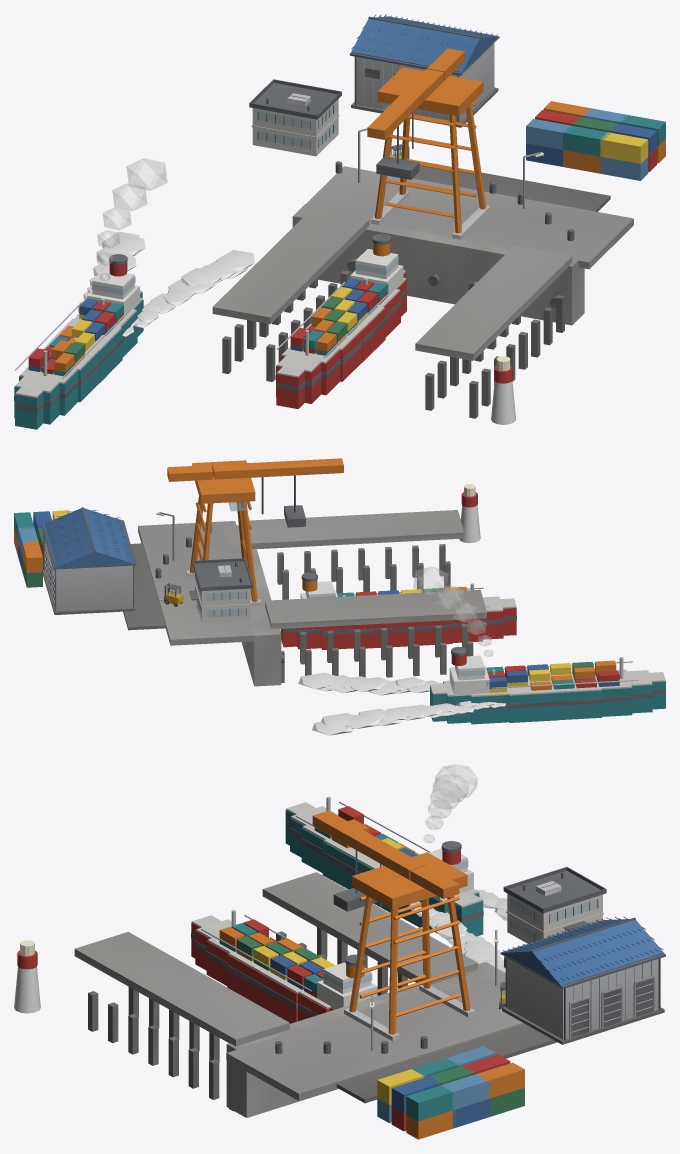
The model's file is Port_P2.fbx.
3 renders of one model, top to bottom at view 1: azimuth 30°, elevation 25°; view 2: azimuth 150°, elevation 25°; view 3: azimuth 270°, elevation 25°, orthographic. The views are drawn at different scales.
Parts seen in each view (by area): view 1: Port.Apron, Port.Pier1, Port.Ship0, Port.ShipOut, Port.Crane0, Port.Pier0, Port.QuayWall, Port.Shed, Port.Containers, Port.Control, Port.Wake, Port.ShipSmoke (+1 smaller); view 2: Port.ShipOut, Port.Pier0, Port.Apron, Port.Shed, Port.Pier1, Port.Crane0, Port.Ship0, Port.Wake, Port.Control, Port.QuayWall, Port.Containers, Port.ShipSmoke (+1 smaller); view 3: Port.Apron, Port.Shed, Port.Pier1, Port.Crane0, Port.Ship0, Port.Containers, Port.Pier0, Port.ShipOut, Port.Control, Port.QuayWall, Port.Wake, Port.ShipSmoke (+1 smaller).
Boxes of the visible parts, x1=… form: Port.Apron: x1=300, y1=166, x2=633, y2=269; Port.Pier1: x1=415, y1=245, x2=572, y2=418; Port.Ship0: x1=275, y1=234, x2=407, y2=408; Port.ShipOut: x1=14, y1=254, x2=143, y2=429; Port.Crane0: x1=367, y1=48, x2=489, y2=239; Port.Pier0: x1=212, y1=209, x2=369, y2=381; Port.QuayWall: x1=292, y1=204, x2=584, y2=325; Port.Shed: x1=349, y1=14, x2=499, y2=127; Port.Containers: x1=526, y1=101, x2=665, y2=180; Port.Control: x1=249, y1=79, x2=341, y2=156; Port.Wake: x1=76, y1=231, x2=254, y2=336; Port.ShipSmoke: x1=96, y1=158, x2=167, y2=281; Port.ShipOut: x1=430, y1=646, x2=665, y2=724; Port.Pier0: x1=265, y1=589, x2=486, y2=682; Port.Apron: x1=123, y1=521, x2=264, y2=645; Port.Shed: x1=41, y1=507, x2=136, y2=614; Port.Pier1: x1=250, y1=510, x2=464, y2=599; Port.Crane0: x1=167, y1=458, x2=343, y2=608; Port.Ship0: x1=280, y1=572, x2=516, y2=649; Port.Wake: x1=298, y1=672, x2=505, y2=735; Port.Control: x1=189, y1=558, x2=252, y2=622; Port.QuayWall: x1=223, y1=525, x2=284, y2=686; Port.Containers: x1=14, y1=510, x2=69, y2=587; Port.ShipSmoke: x1=413, y1=567, x2=492, y2=656; Port.Apron: x1=226, y1=973, x2=557, y2=1103; Port.Shed: x1=500, y1=916, x2=665, y2=1044; Port.Pier1: x1=74, y1=932, x2=289, y2=1111; Port.Crane0: x1=312, y1=810, x2=475, y2=1040; Port.Ship0: x1=191, y1=910, x2=377, y2=1023; Port.Containers: x1=377, y1=1046, x2=524, y2=1139; Port.Pier0: x1=262, y1=872, x2=477, y2=995; Port.ShipOut: x1=285, y1=796, x2=483, y2=936; Port.Control: x1=503, y1=867, x2=606, y2=943; Port.QuayWall: x1=226, y1=962, x2=505, y2=1117; Port.Wake: x1=408, y1=889, x2=507, y2=972; Port.ShipSmoke: x1=424, y1=764, x2=476, y2=842.
Size of the model in its own units: 12895 by 3630 by 9697.
